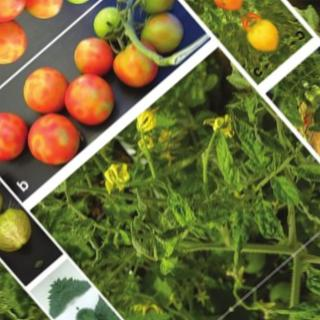Tomato leaf mosaic virus: (202, 135, 259, 195), (225, 115, 281, 174), (243, 195, 297, 251), (265, 169, 308, 214), (288, 149, 320, 193)
